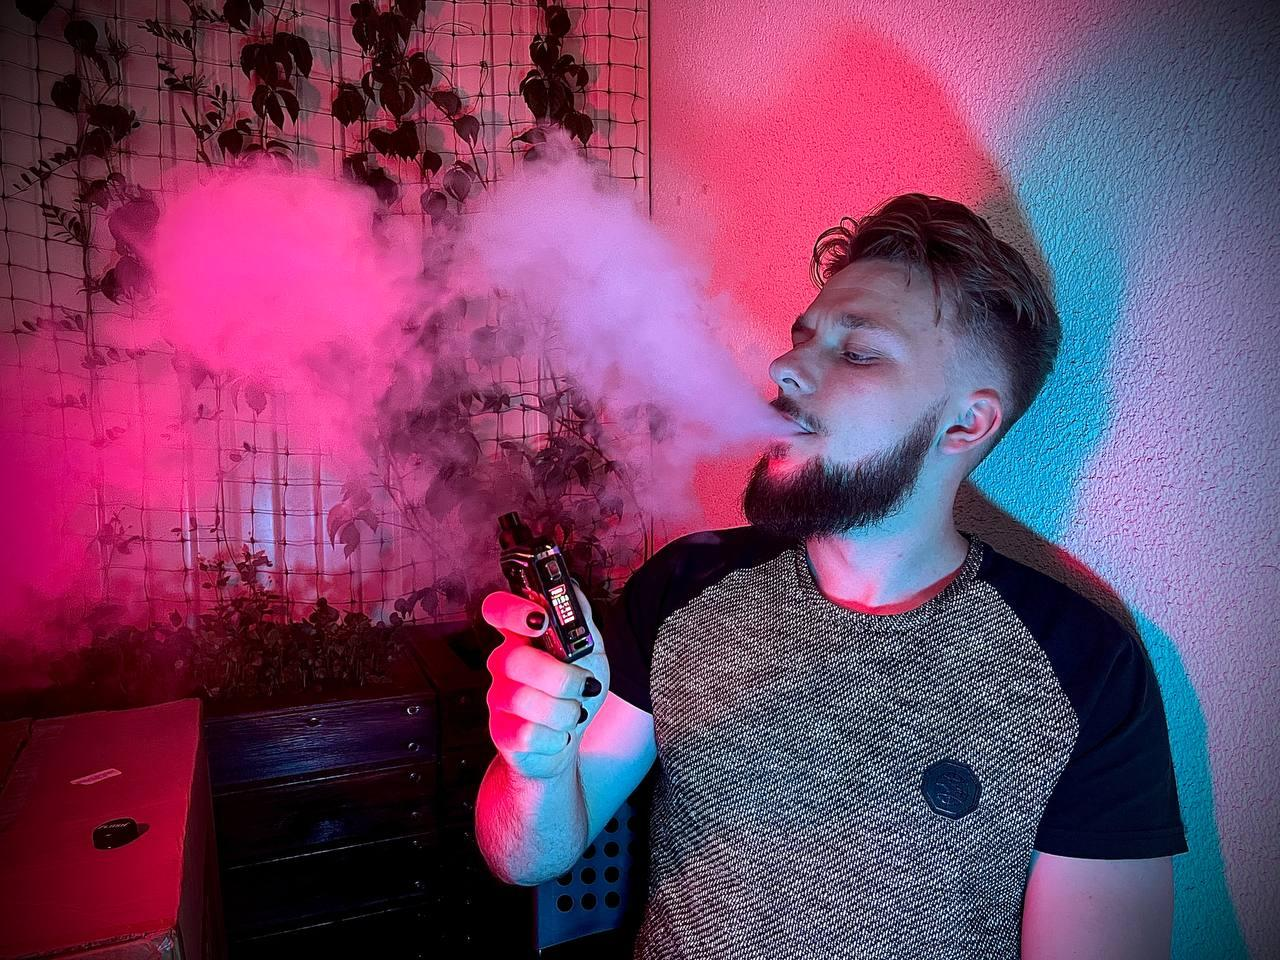Vape: (497, 510, 594, 665)
